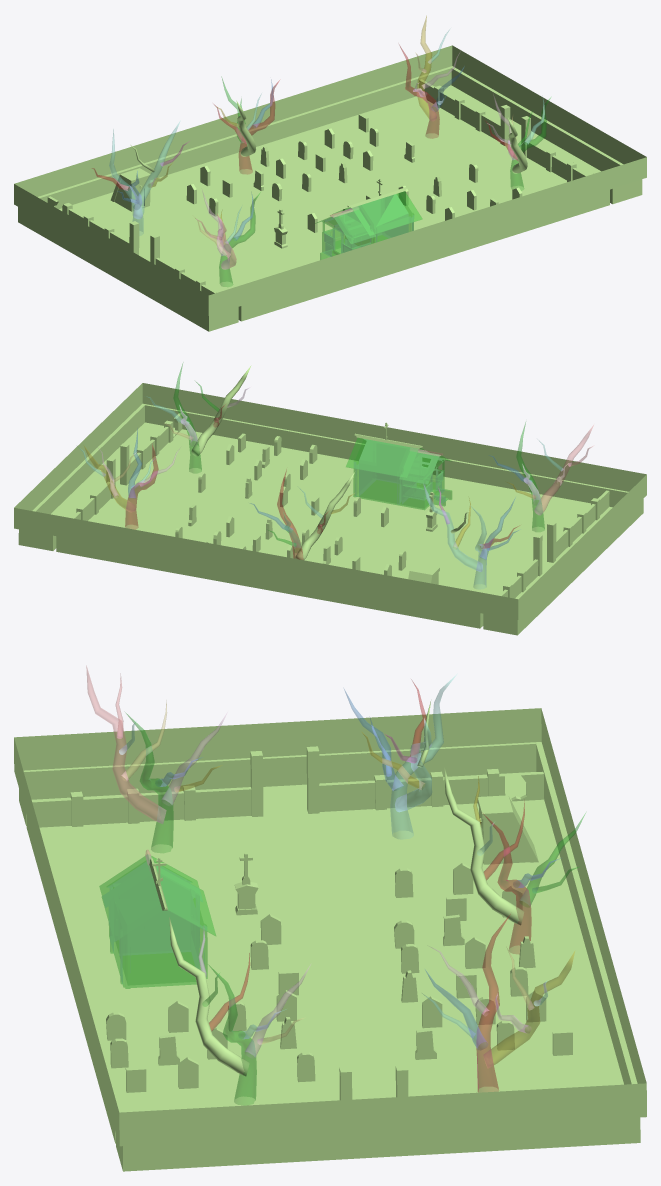
Rendered from mezarlik.glb.
The picture shows the model from 3 angles, top to bottom: view 1: azimuth 30°, elevation 25°; view 2: azimuth 150°, elevation 25°; view 3: azimuth 270°, elevation 25°; orthographic projection. The views are drawn at different scales.
Visible parts, largest first — view 1: 3d-model; view 2: 3d-model; view 3: 3d-model.
Boxes of the visible parts, left/top/right/bottom form: 3d-model: left=14, top=16, right=646, bottom=331; 3d-model: left=14, top=364, right=646, bottom=635; 3d-model: left=14, top=666, right=646, bottom=1171.
Bounding box in the file's own units: 161 × 30 × 107.
